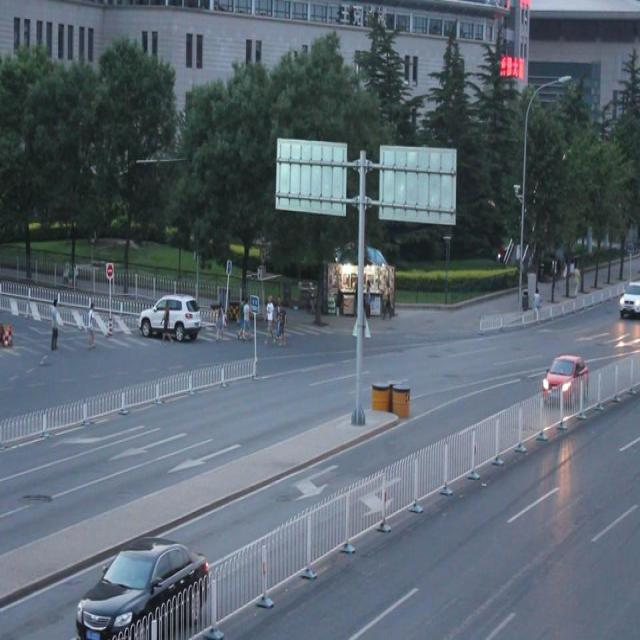car: (74, 531, 208, 640), (140, 292, 200, 338), (540, 353, 586, 402), (614, 277, 640, 315)
